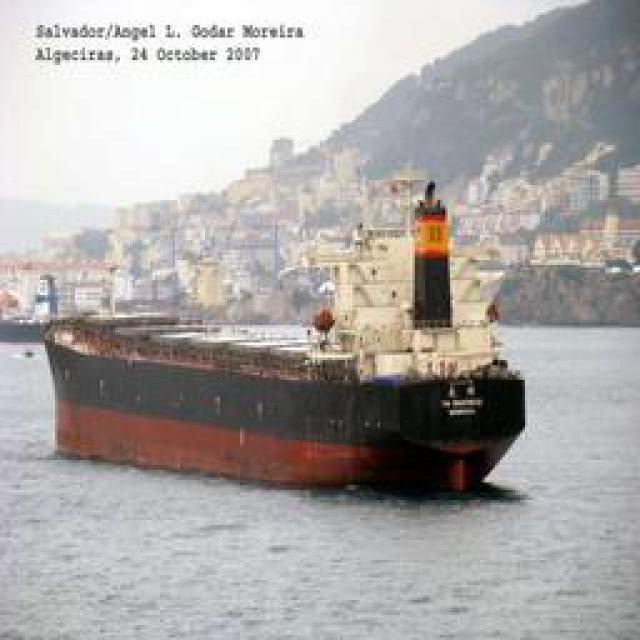Ship: (41, 177, 536, 502)
